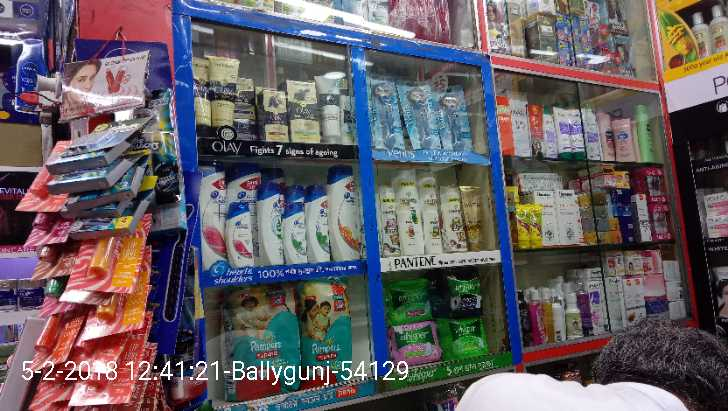gillete: (152, 181, 201, 324), (68, 190, 156, 236), (54, 153, 137, 186), (73, 117, 147, 150), (171, 329, 201, 403)
venus: (402, 81, 435, 148), (435, 85, 470, 148), (376, 81, 402, 148)
